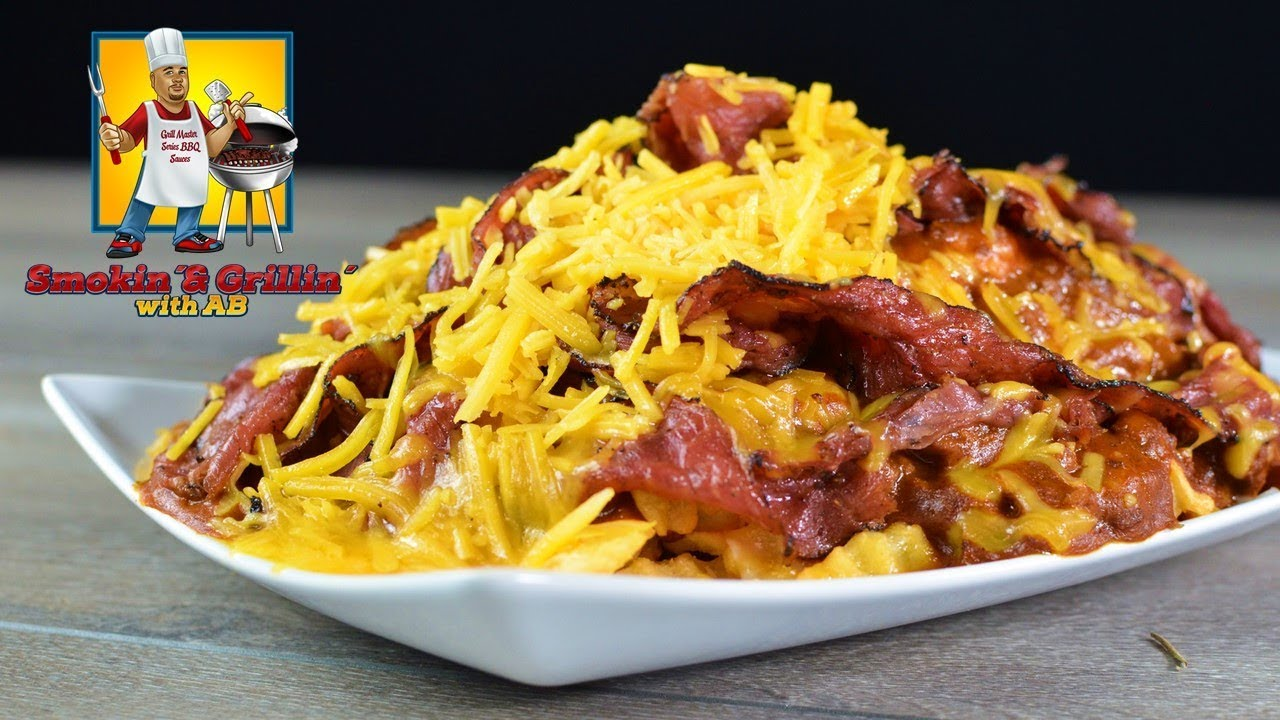cheese: (576, 141, 864, 263), (460, 269, 583, 547)
